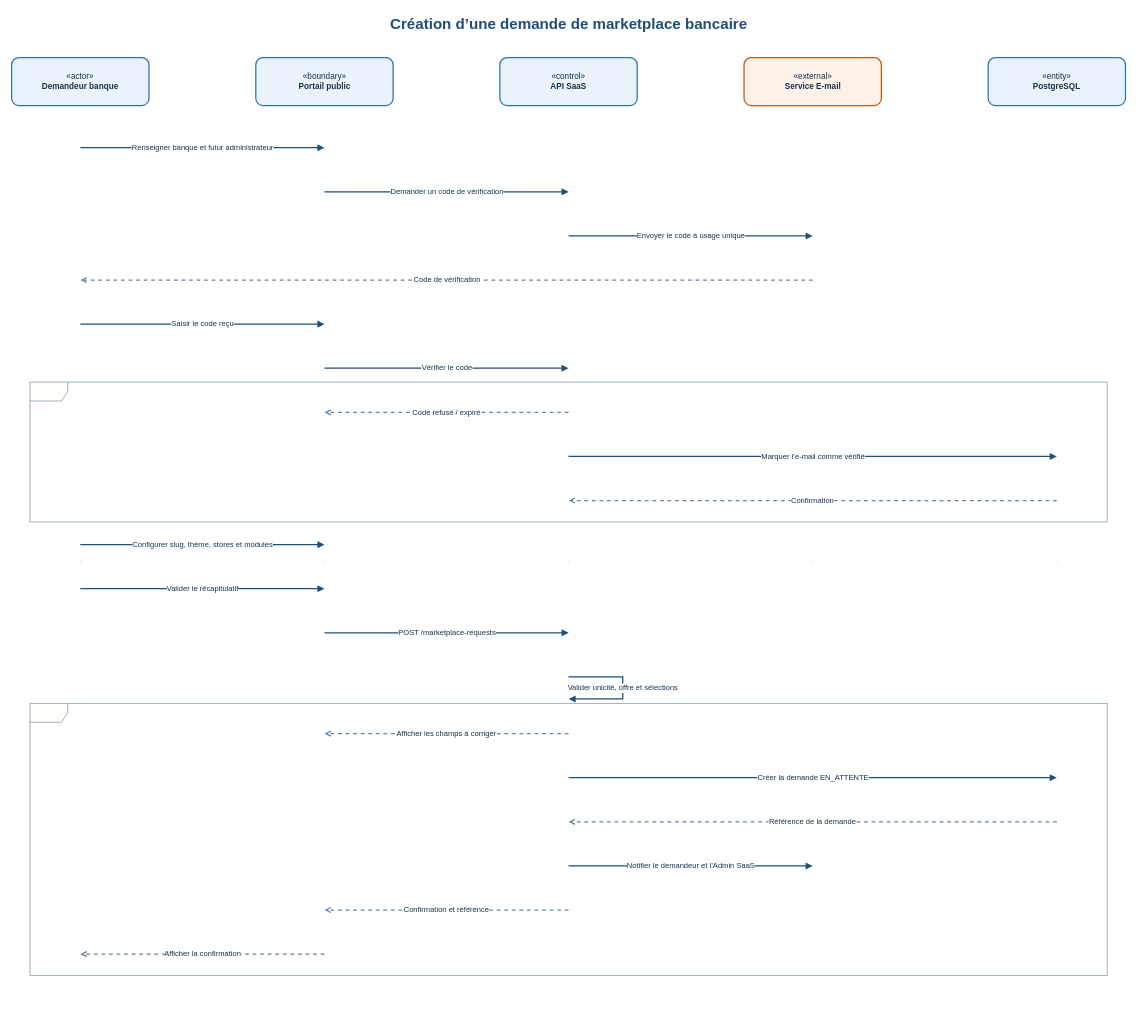
This 1137x1029 diagram has some shape labels left out. The shapes that lost their labels are listed below. From the top down, each one's centre as x and y in pixels, then its label:
At (x=568, y=451): "alt [code invalide]".
At (x=568, y=839): "alt [données invalides]".
